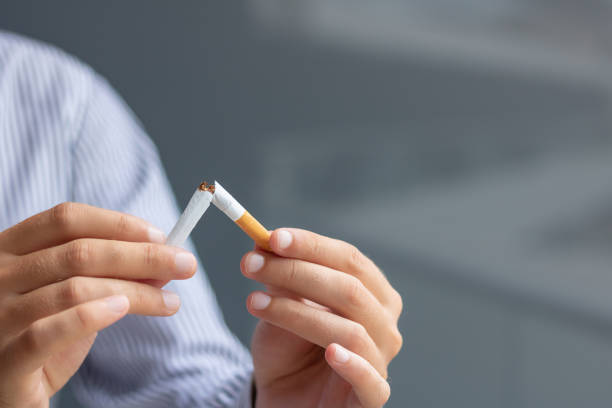cigarette: (207, 180, 272, 251), (163, 183, 214, 250)
